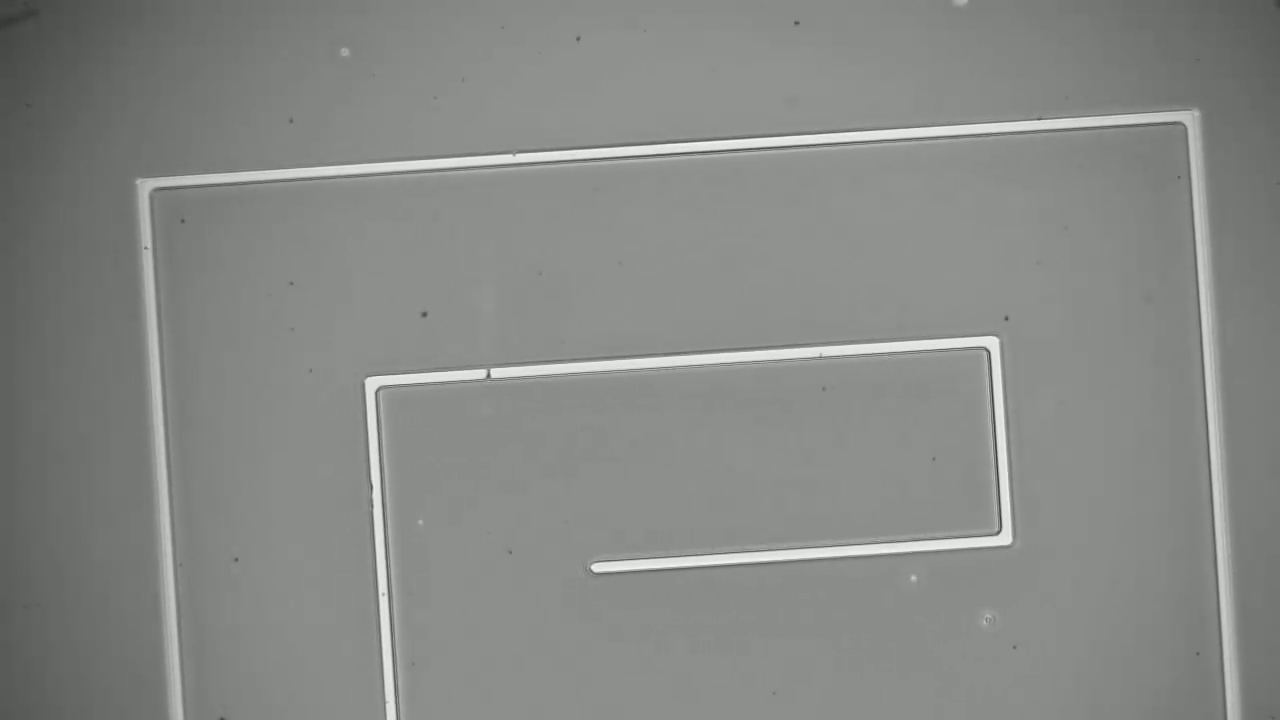stains_enbedded: (477, 360, 502, 386)
